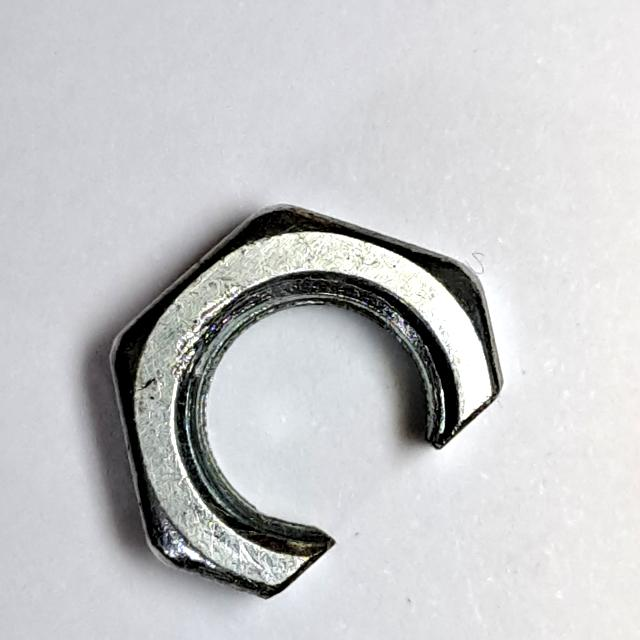Fracture: (89, 190, 516, 618)
